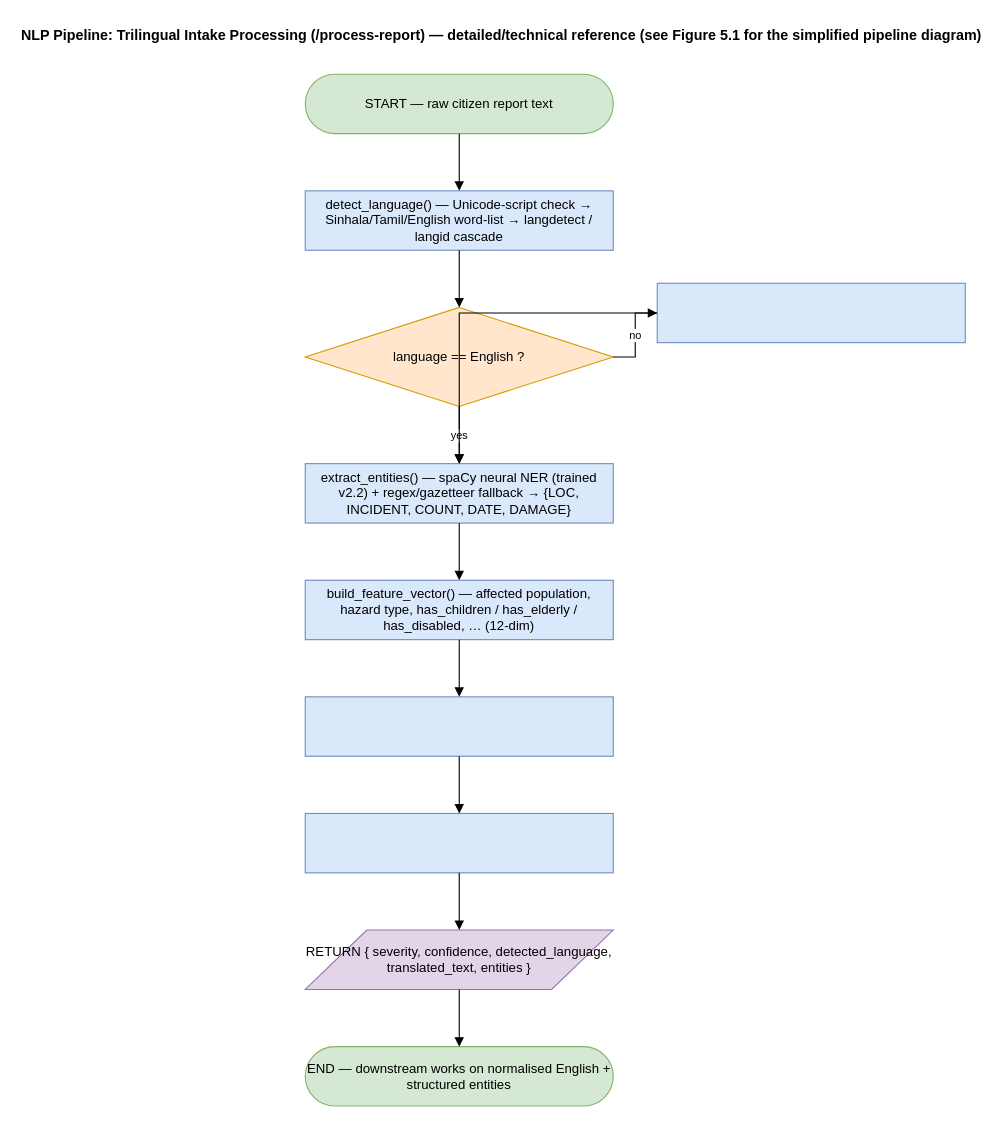
This 1000x1125 diagram has some shape labels left out. Each missing label, with the box of its shape:
temperature-scale probabilities → severity = argmax, confidence = max(p): (304, 812, 613, 873)
translate_to_english() — library NMT (Si/Ta → En): (656, 282, 965, 343)
XGBoost.predict_proba() → 4-class severity probabilities: (304, 696, 613, 756)
